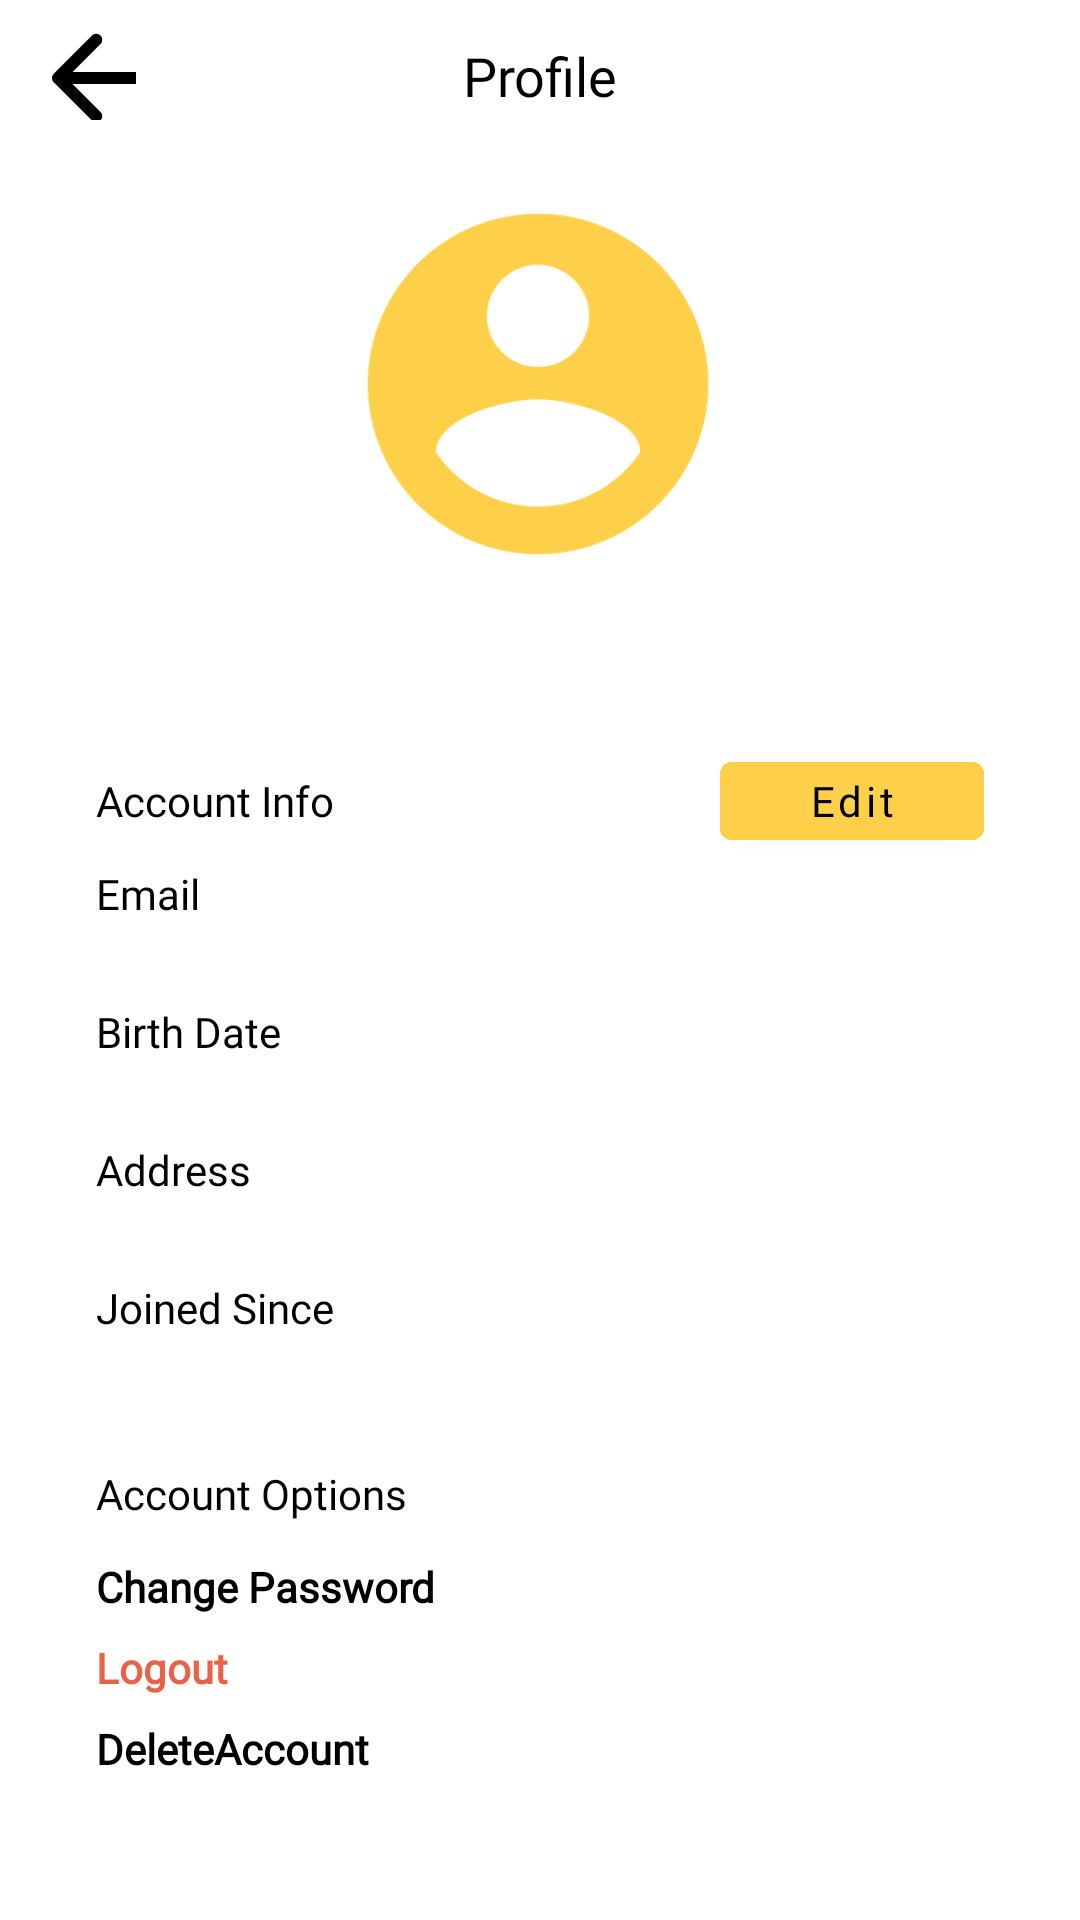

Where to tap for icons on this 1080w x 1920h app screen, as point (x, y):
arrowback: point (94, 76)
userpic: point (538, 384)
